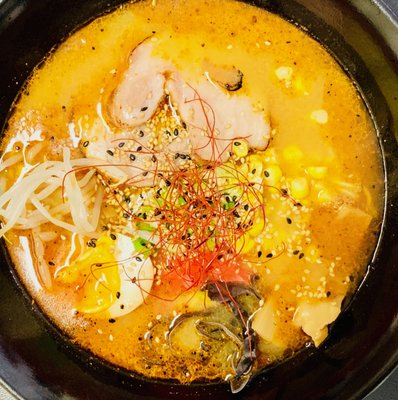sandwich: (0, 1, 394, 398)
